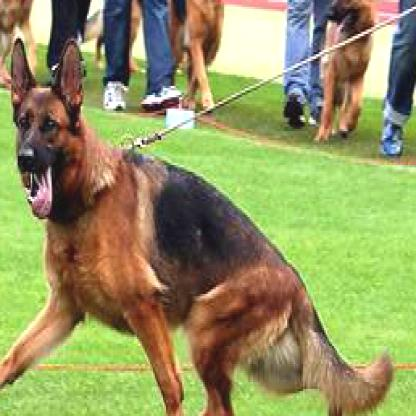dog: (1, 36, 393, 414)
